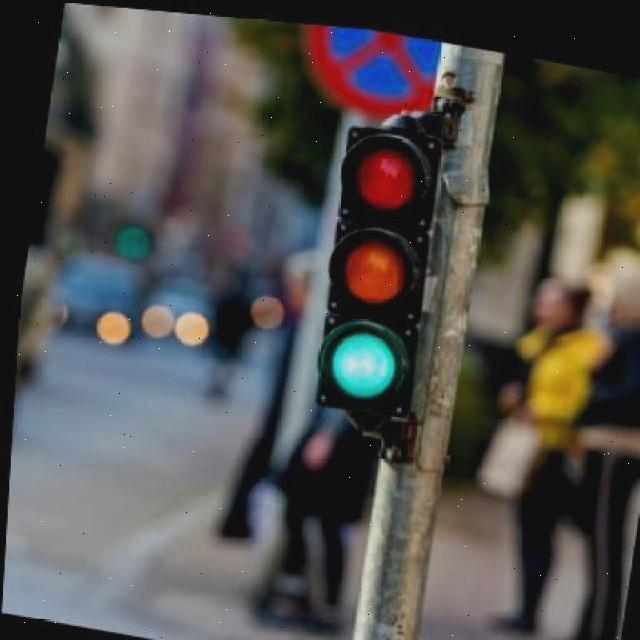green_light: (314, 103, 462, 464)
